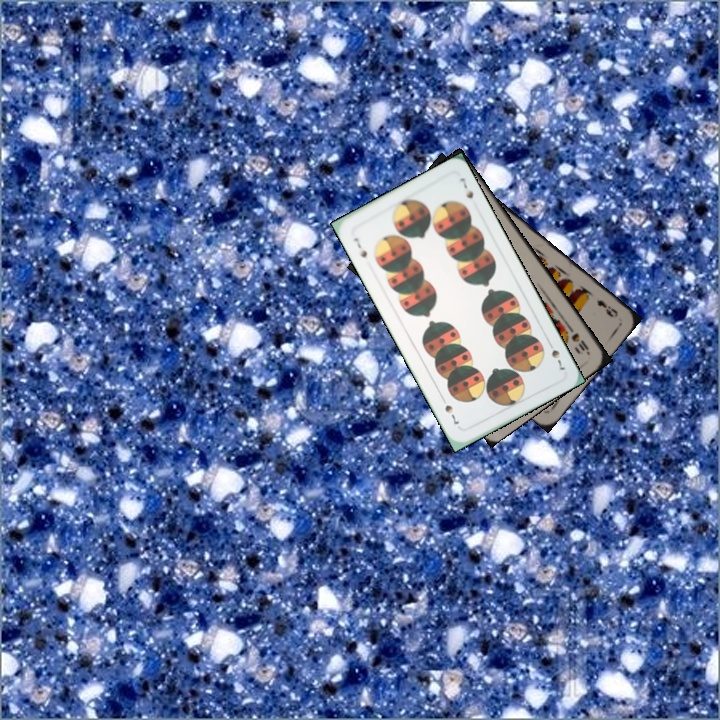E9: (593, 296, 621, 320)
S10: (563, 321, 592, 357)
S7: (543, 336, 568, 373), (349, 234, 369, 262)
